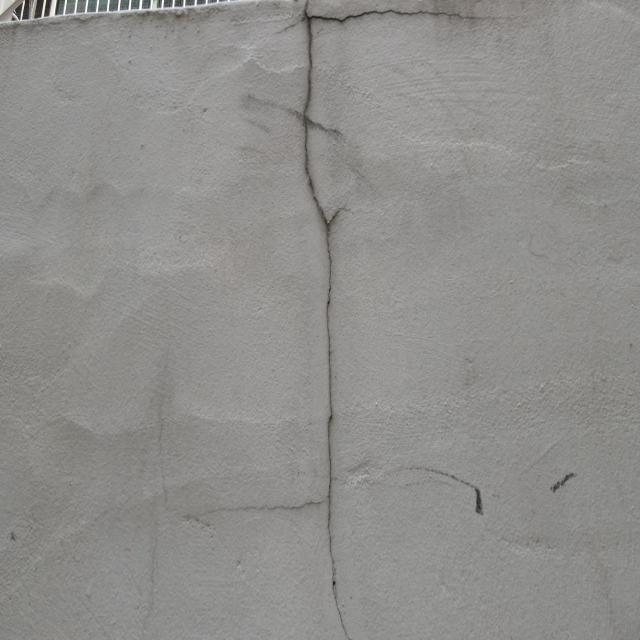SurfaceCrack: (263, 1, 378, 640)
